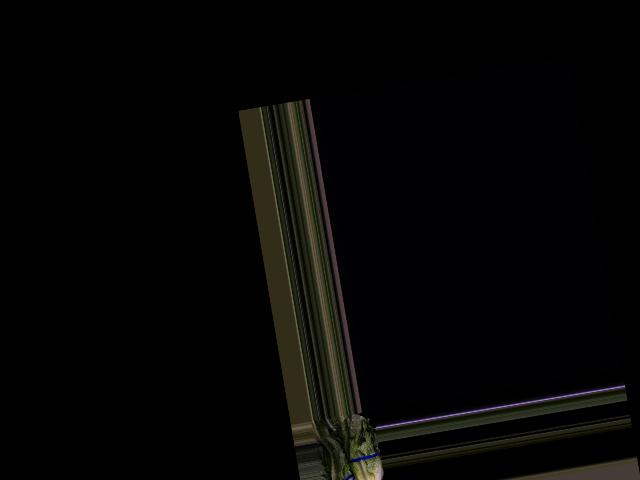lettuce: (318, 431, 362, 480)
